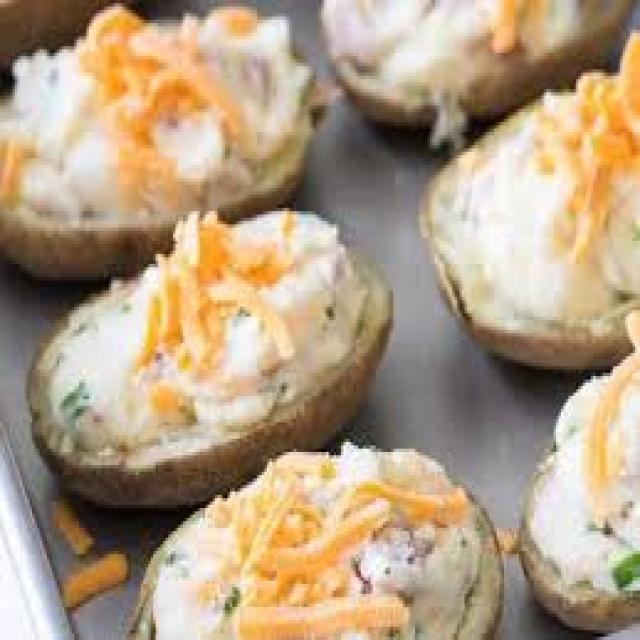Baked Potato: (73, 264, 488, 640), (36, 68, 312, 247)
